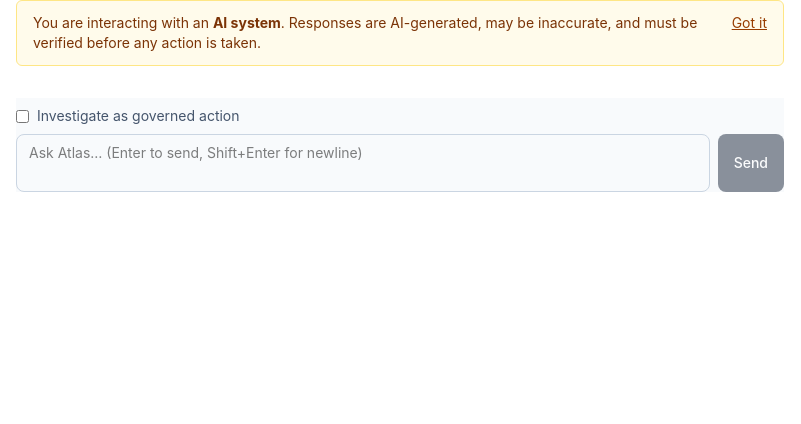
it: ChatPage › submits a query and renders the cited answer + AI label + meta badges
This screenshot has width=801, height=424.
Step 1. Type "open AML exceptions?" into the text box named "Ask a question" → point(363, 163), box 16,134 -> 710,192
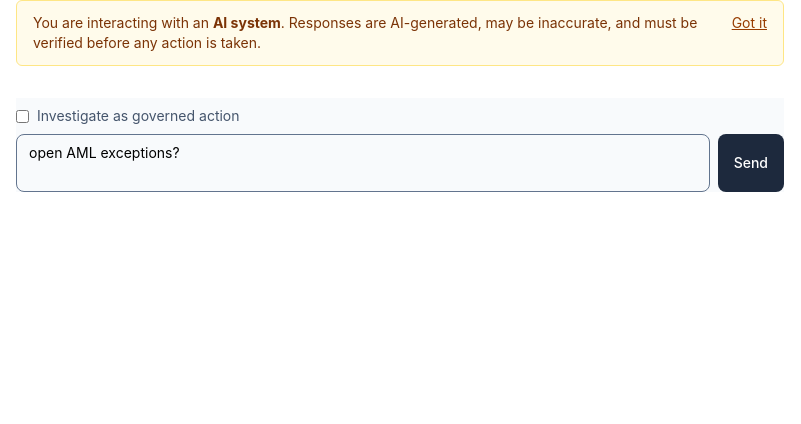
Step 2. Click the button "Send" → point(751, 163), box 718,134 -> 784,192
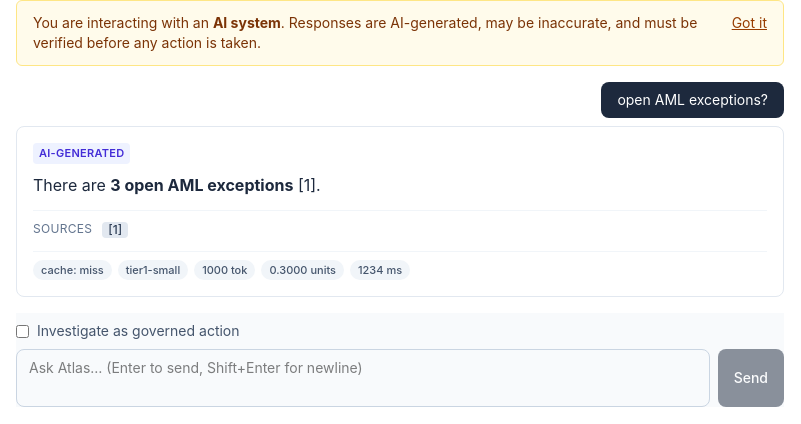
expect the text "AI-generated" is shown: met, box 33,143 -> 130,164
expect the text "3 open AML exceptions" is shown: met, box 110,174 -> 293,194
expect the button "[1]" is shown: met, box 102,222 -> 128,238
